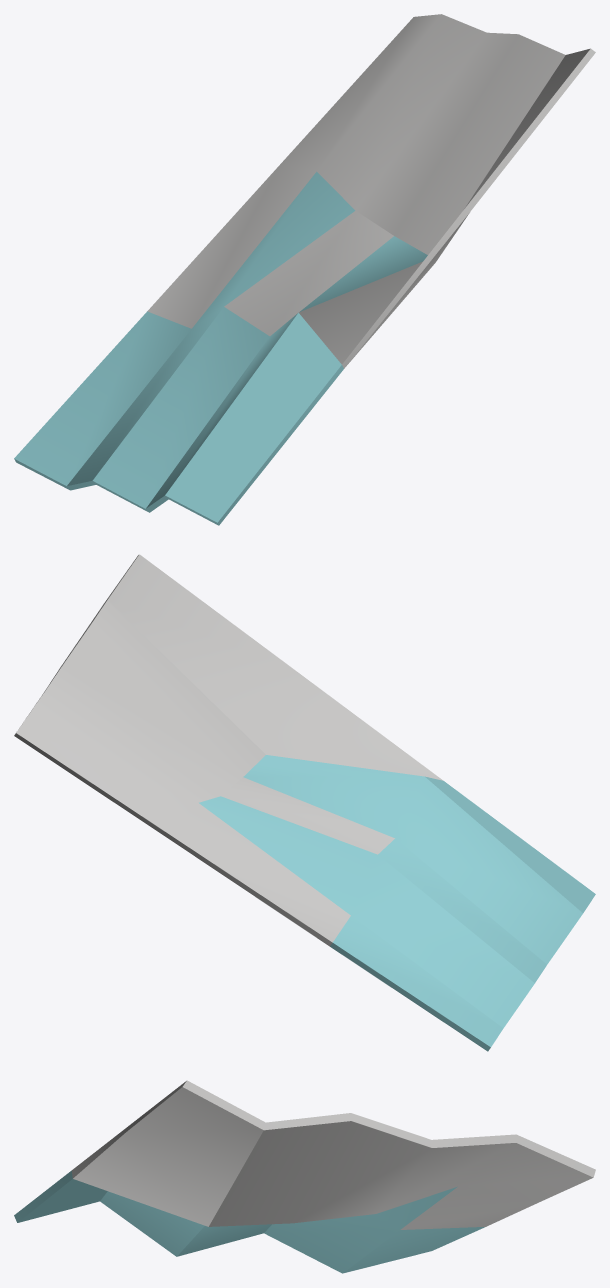
File: techo2.glb
3 renders of one model, top to bottom at view 1: azimuth 30°, elevation 25°; view 2: azimuth 150°, elevation 25°; view 3: azimuth 270°, elevation 25°, orthographic. The views are drawn at different scales.
Parts seen in each view (by area): view 1: Plane.001; view 2: Plane.001; view 3: Plane.001.
Part boxes in pixels (<box>): Plane.001: <box>14,14,595,525</box>; Plane.001: <box>14,554,595,1051</box>; Plane.001: <box>14,1080,595,1273</box>.
Size of the model in its own units: 10.33 by 7.48 by 8.12.
